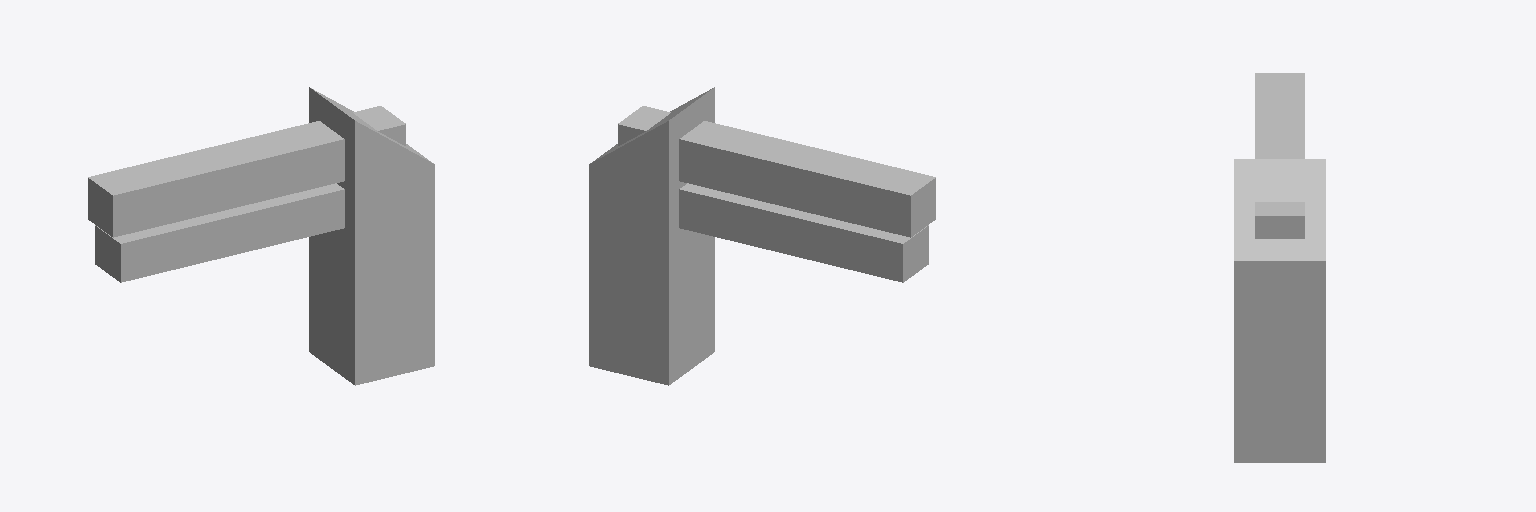
File: gun.obj
3 renders of one model, left to right at view 1: azimuth 30°, elevation 25°; view 2: azimuth 150°, elevation 25°; view 3: azimuth 270°, elevation 25°, orthographic.
Parts seen in each view (by area): view 1: Cube; view 2: Cube; view 3: Cube.
Boxes of the visible parts, x1=… form: Cube: x1=88, y1=87, x2=434, y2=385; Cube: x1=589, y1=87, x2=935, y2=385; Cube: x1=1234, y1=73, x2=1325, y2=462.
Size of the model in its own units: 0.6803 by 0.5582 by 0.1739.